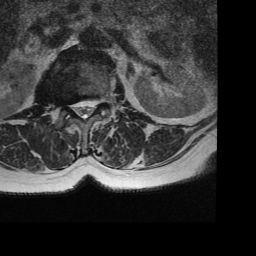CCS_normal: (80, 94, 88, 125)
LFS_normal: (97, 87, 106, 112)
LLS_normal: (88, 93, 97, 119)
RFS_severe_stenosis: (61, 95, 70, 115)
RLS_normal: (70, 92, 80, 121)
